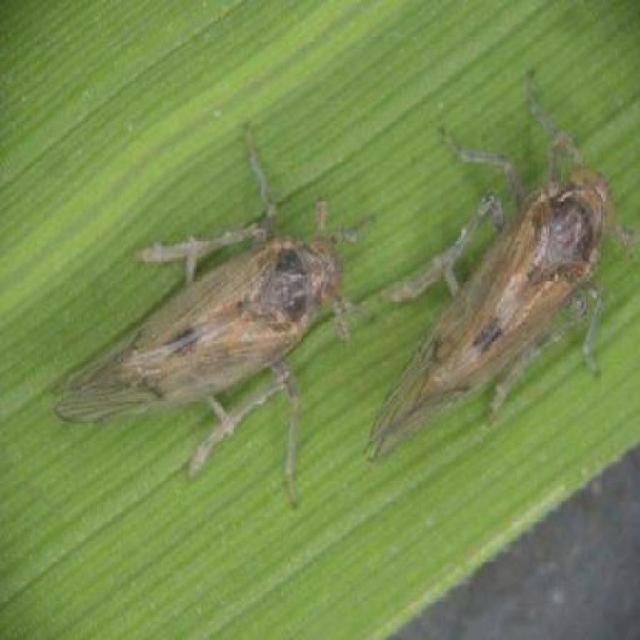brown-planthopper: (54, 178, 357, 464), (367, 152, 631, 470)
